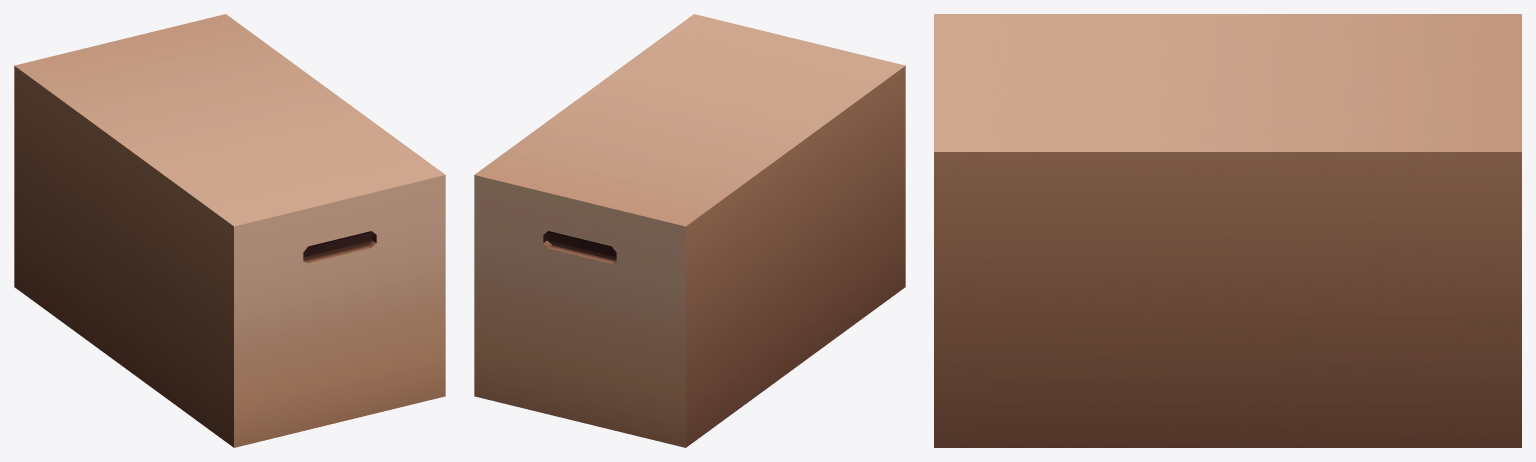
Rendered from SM_movingBox.fbx.
3 renders of one model, left to right at view 1: azimuth 30°, elevation 25°; view 2: azimuth 150°, elevation 25°; view 3: azimuth 270°, elevation 25°, orthographic. The views are drawn at different scales.
Visible parts, largest first — view 1: movingBox; view 2: movingBox; view 3: movingBox.
Boxes of the visible parts, bbox=[...] form: movingBox: bbox=[14, 14, 445, 447]; movingBox: bbox=[474, 14, 905, 447]; movingBox: bbox=[934, 14, 1521, 447].
Size of the model in its own units: 49.85 by 49.85 by 89.73.
